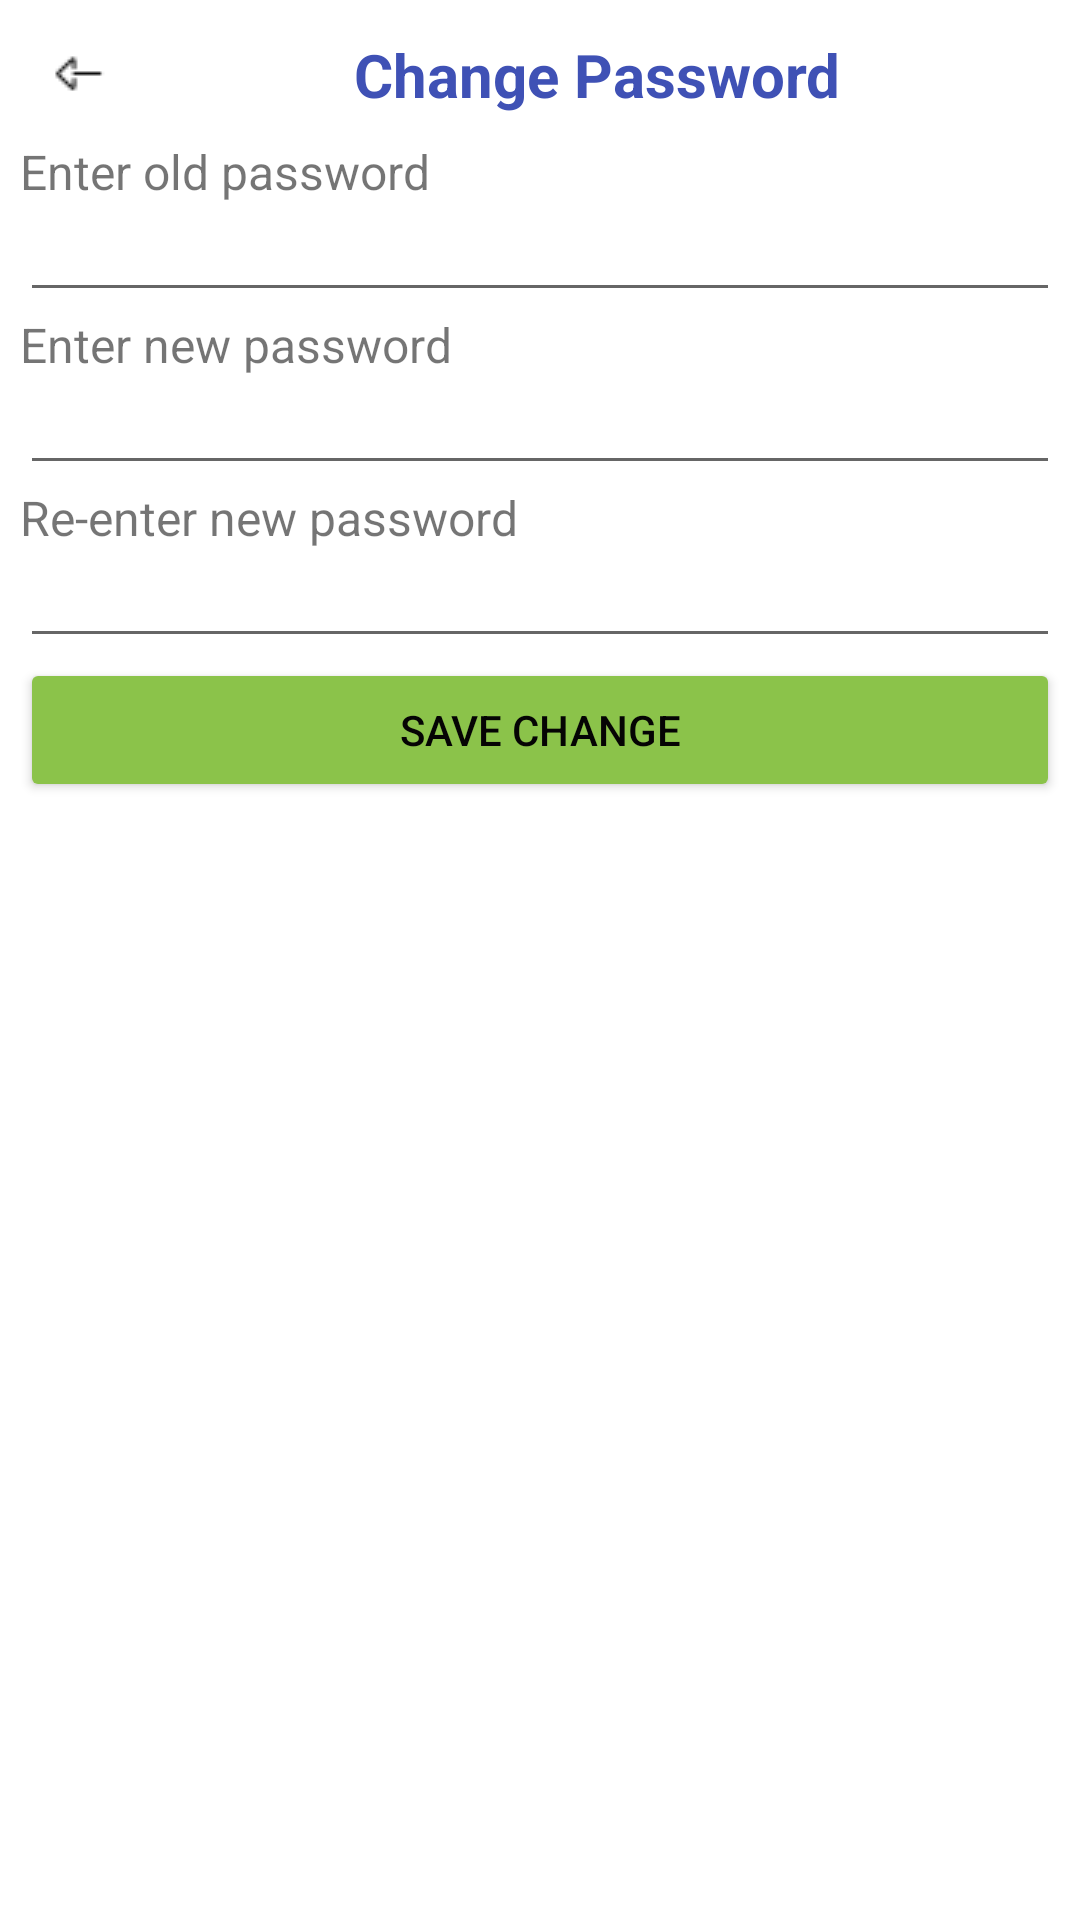

Icon click points for this 1080px x 1920px phone screenshot, format (x=x, y=y):
back: (x=78, y=73)
